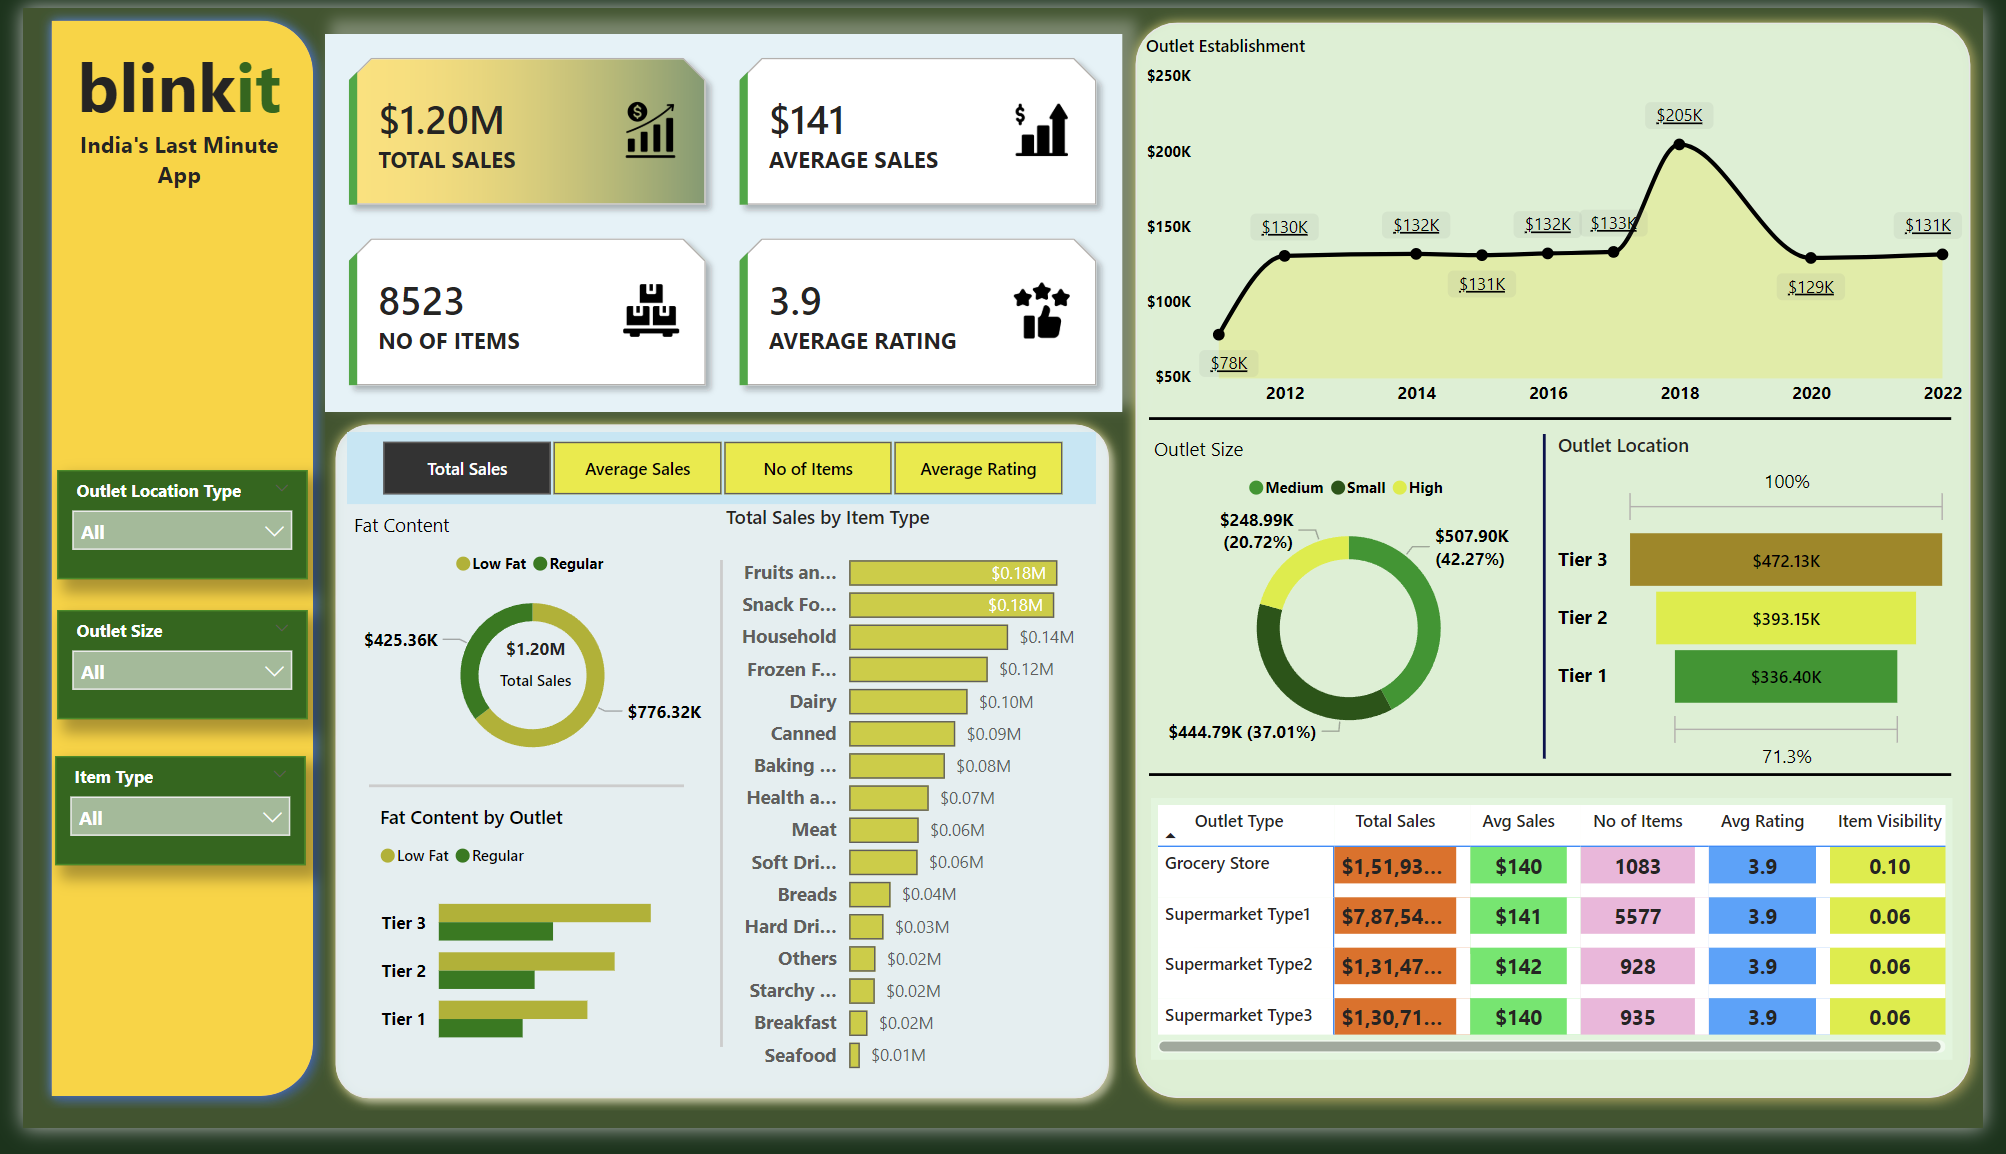

This screenshot's page, from the dashboard's own definition file:
{"tool":"powerbi","page":{"name":"Page 1","canvas":[1400,800],"ordinal":0},"visuals":[{"type":"shape","box":[11.4,0,204.7,786.1],"z":0},{"type":"textbox","box":[20.2,17.7,183.3,123.9],"z":1000},{"type":"cardVisual","fields":{"Data":["BlinkIT Grocery Data.Total Sales","BlinkIT Grocery Data.Average Sales","BlinkIT Grocery Data.No of Items","BlinkIT Grocery Data.Average Rating"]},"box":[215.3,18.2,569.7,270],"z":2000},{"type":"shape","box":[214.7,288.6,570.3,499.2],"z":3000},{"type":"slicer","fields":{"Values":["Metrics.Metrics"]},"box":[231.9,303.1,534.9,51.3],"z":4000},{"type":"card","fields":{"Values":["BlinkIT Grocery Data.Total Sales"]},"box":[321.3,440.5,89.4,54.7],"z":5000},{"type":"clusteredBarChart","title":"Fat Content by Outlet","fields":{"Y":["BlinkIT Grocery Data.Total Sales"],"Series":["BlinkIT Grocery Data.Item Fat Content"],"Category":["BlinkIT Grocery Data.Outlet Location Type"]},"box":[250.1,568.1,250.1,187.1],"z":6000},{"type":"shape","box":[246.8,551.5,225.2,8.3],"z":7000},{"type":"shape","box":[460.4,394.2,77.8,347.8],"z":8000},{"type":"barChart","fields":{"Y":["BlinkIT Grocery Data.Total Sales"],"Category":["BlinkIT Grocery Data.Item Type"]},"box":[496.8,354.4,288.2,417.4],"z":9000},{"type":"shape","box":[786.1,1.3,614.2,786.1],"z":10000},{"type":"lineChart","title":"Outlet Establishment","fields":{"Y":["BlinkIT Grocery Data.Total Sales"],"Category":["BlinkIT Grocery Data.Outlet Establishment Year"]},"box":[796.6,18.2,592.9,275],"z":11000},{"type":"shape","box":[804.9,265,573,58],"z":12000},{"type":"donutChart","title":"Fat Content","fields":{"Y":["BlinkIT Grocery Data.Total Sales"],"Category":["BlinkIT Grocery Data.Item Fat Content"]},"box":[231.9,359.4,265,188.8],"z":13000},{"type":"donutChart","title":"Outlet Size","fields":{"Y":["BlinkIT Grocery Data.Total Sales"],"Category":["BlinkIT Grocery Data.Outlet Size"]},"box":[803.2,306.4,288.2,230.2],"z":14000},{"type":"shape","box":[1064.9,304.7,44.7,231.9],"z":15000},{"type":"funnel","title":"Outlet Location","fields":{"Y":["BlinkIT Grocery Data.Total Sales"],"Category":["BlinkIT Grocery Data.Outlet Location Type"]},"box":[1091.9,303.3,289.4,247.7],"z":16000},{"type":"shape","box":[804.9,518.4,573,58],"z":17000},{"type":"pivotTable","fields":{"Rows":["BlinkIT Grocery Data.Outlet Type"],"Values":["BlinkIT Grocery Data.Total Sales","BlinkIT Grocery Data.Average Sales","BlinkIT Grocery Data.No of Items","BlinkIT Grocery Data.Average Rating","Avg(BlinkIT Grocery Data.Item Visibility)"]},"box":[805.1,563.7,572.5,187],"z":18000},{"type":"slicer","fields":{"Values":["BlinkIT Grocery Data.Outlet Location Type"]},"box":[24.8,329.6,178.9,77.8],"z":19000},{"type":"slicer","fields":{"Values":["BlinkIT Grocery Data.Outlet Size"]},"box":[24.8,430.6,178.9,77.8],"z":20000},{"type":"slicer","fields":{"Values":["BlinkIT Grocery Data.Item Type"]},"box":[23.2,534.9,178.9,77.8],"z":21000}]}

Visuals, with their boxes in screenshot pixels (x1, y1, x2, y2), scaled from the page's 1400x800 canvas onto the 2006x1154 screenshot:
shape: x1=16, y1=0, x2=310, y2=1134
textbox: x1=29, y1=26, x2=292, y2=204
cardVisual - BlinkIT Grocery Data.Total Sales x BlinkIT Grocery Data.Average Sales: x1=308, y1=26, x2=1125, y2=416
shape: x1=308, y1=416, x2=1125, y2=1136
slicer - Metrics.Metrics: x1=332, y1=437, x2=1099, y2=511
card - BlinkIT Grocery Data.Total Sales: x1=460, y1=635, x2=588, y2=714
"Fat Content by Outlet" clusteredBarChart: x1=358, y1=819, x2=717, y2=1089
shape: x1=354, y1=796, x2=676, y2=808
shape: x1=660, y1=569, x2=771, y2=1070
barChart - BlinkIT Grocery Data.Total Sales x BlinkIT Grocery Data.Item Type: x1=712, y1=511, x2=1125, y2=1113
shape: x1=1126, y1=2, x2=2005, y2=1136
"Outlet Establishment" lineChart: x1=1141, y1=26, x2=1991, y2=423
shape: x1=1153, y1=382, x2=1974, y2=466
"Fat Content" donutChart: x1=332, y1=518, x2=712, y2=791
"Outlet Size" donutChart: x1=1151, y1=442, x2=1564, y2=774
shape: x1=1526, y1=440, x2=1590, y2=774
"Outlet Location" funnel: x1=1565, y1=438, x2=1979, y2=795
shape: x1=1153, y1=748, x2=1974, y2=831
pivotTable - BlinkIT Grocery Data.Outlet Type x BlinkIT Grocery Data.Total Sales: x1=1154, y1=813, x2=1974, y2=1083
slicer - BlinkIT Grocery Data.Outlet Location Type: x1=36, y1=475, x2=292, y2=588
slicer - BlinkIT Grocery Data.Outlet Size: x1=36, y1=621, x2=292, y2=733
slicer - BlinkIT Grocery Data.Item Type: x1=33, y1=772, x2=290, y2=884
